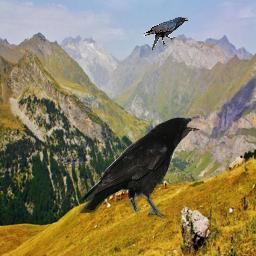Crow: (77, 114, 202, 221), (142, 17, 188, 51)
